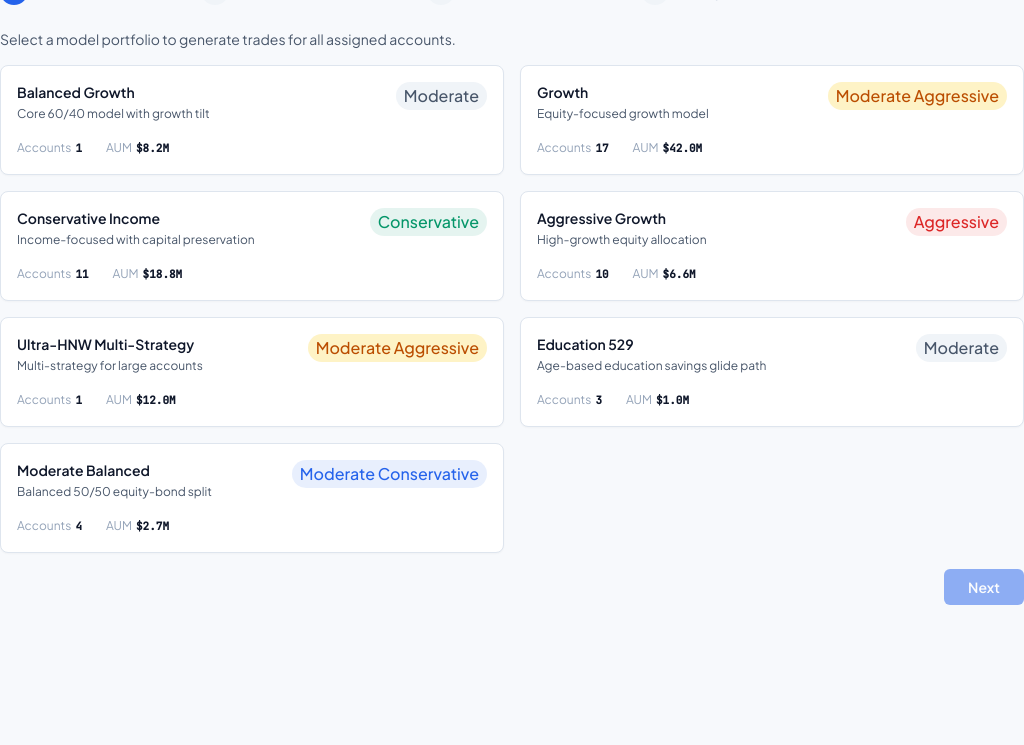
ModelTradeView renders the account's own data, not a hash of its id › step 2 shows each account's real drift, not the character-code figure
The image size is (1024, 745).
Click the heading "Growth" at (563, 92), box [537,83,588,101]
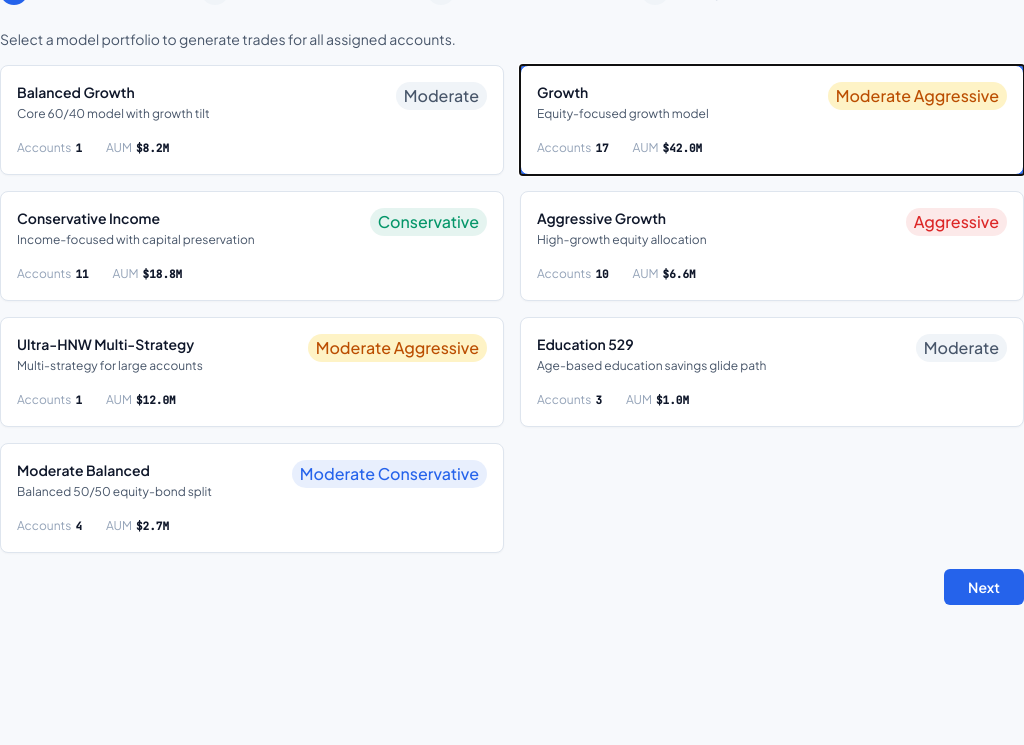
Click the button "Next" at (984, 587), box [944,569,1023,605]
(page scrolled)
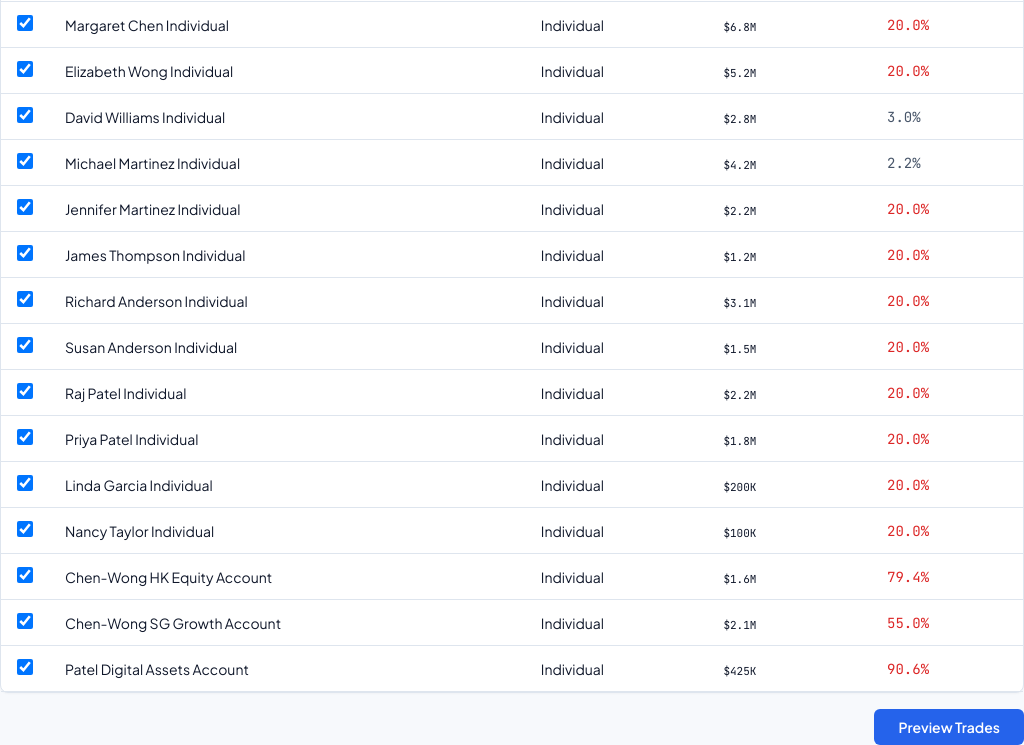
expect the text "79.4%" is shown: met, box [887,568,929,586]
